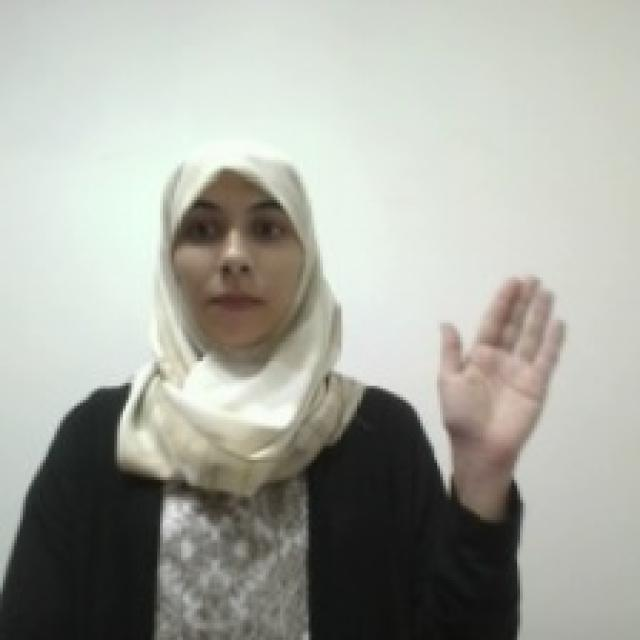Hello: (434, 269, 570, 445)
